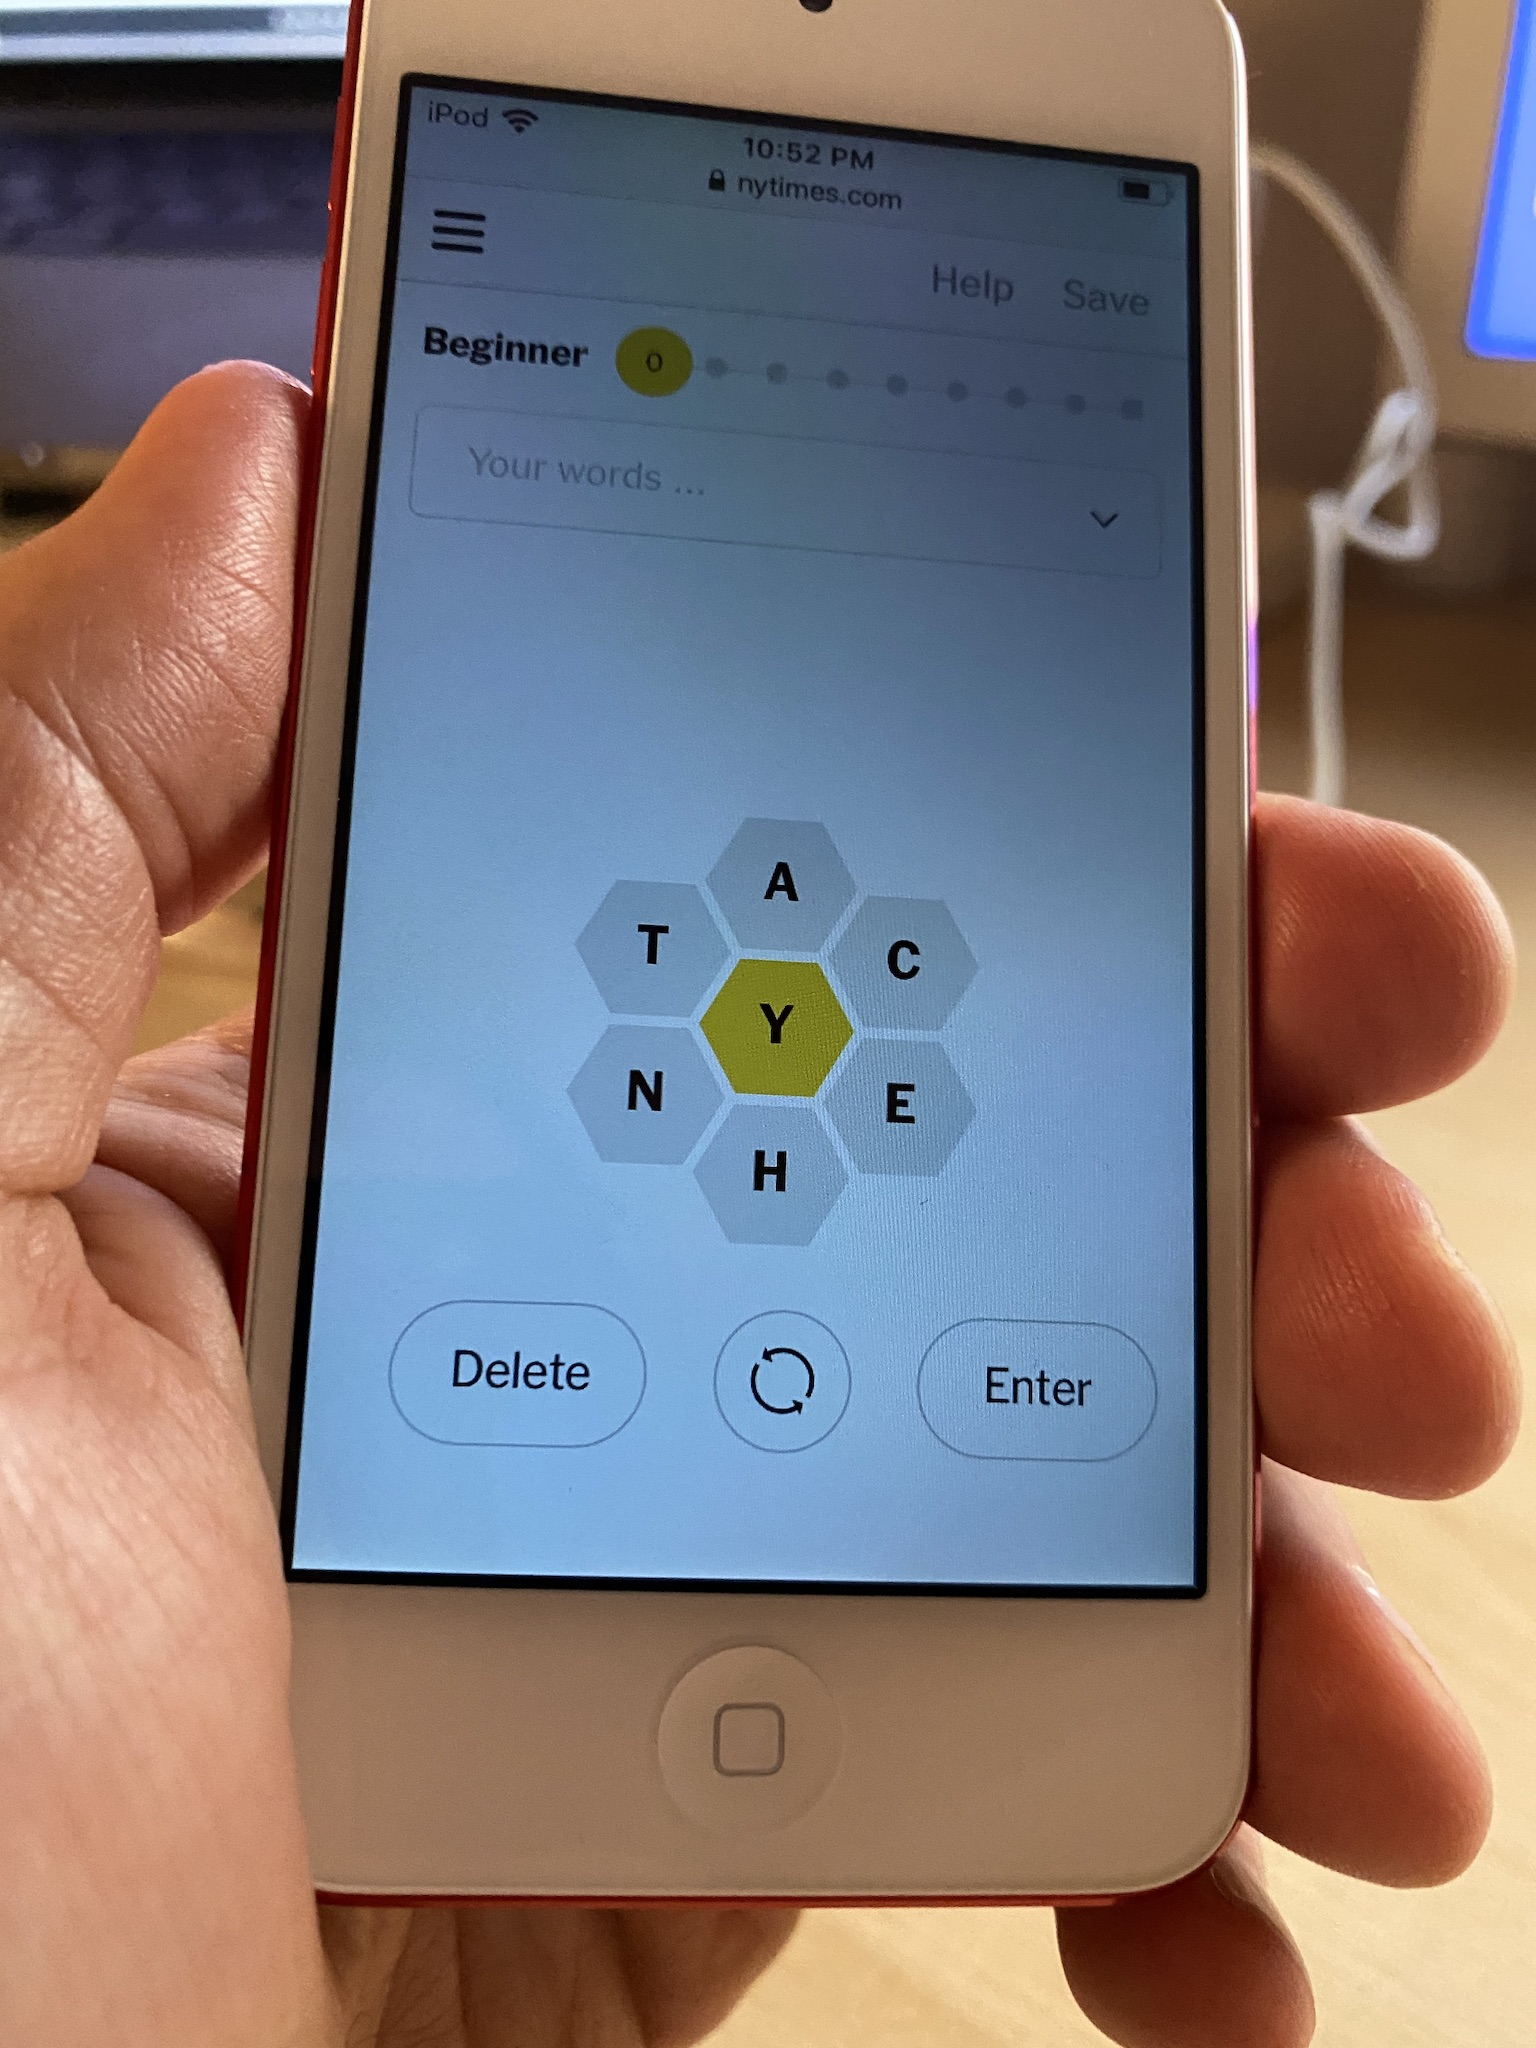Board: (566, 798, 999, 1259)
